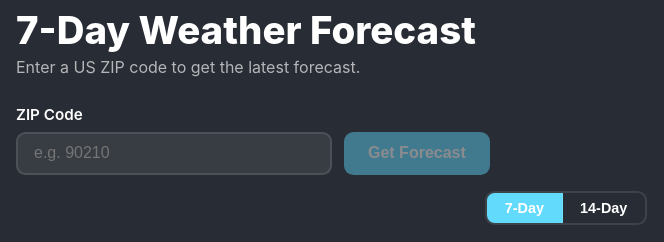
Test: WeatherPage › button is enabled when user types a zip
The width and height of the screenshot is (664, 242).
Type "90210" into the field at (174, 153), box x1=16 y1=132 x2=332 y2=174
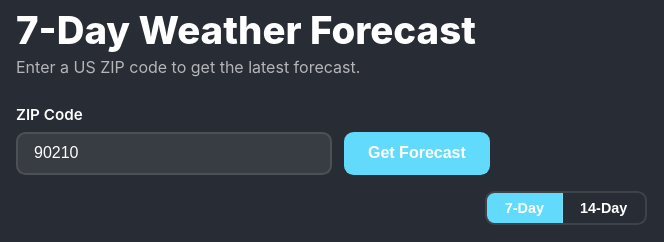
Check: the button "Get Forecast" is enabled, box x1=344 y1=132 x2=490 y2=174
